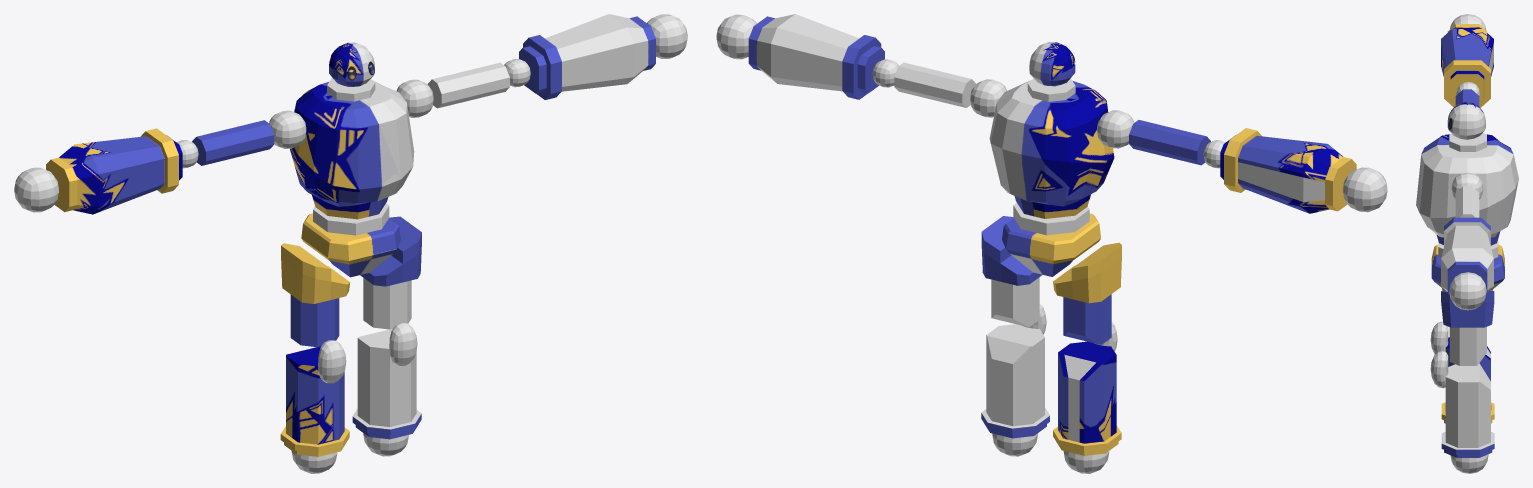
Rendered from Mecha Texturizado.fbx.
The picture shows the model from 3 angles, left to right: view 1: azimuth 30°, elevation 25°; view 2: azimuth 150°, elevation 25°; view 3: azimuth 270°, elevation 25°; orthographic projection. The views are drawn at different scales.
Visible parts, largest first — view 1: Peito, Antebraço Esquerdo, Antebraço Direito, Canela Esquerda, Canela Direita, Quadril, hipebone Direito, Braço Esquerdo, Braço Direito, Coxa Direita, Hipbone Esquerdo, Coxa Esquerda (+11 smaller); view 2: Peito, Antebraço Esquerdo, Antebraço Direito, Canela Esquerda, Canela Direita, Quadril, hipebone Direito, Braço Esquerdo, Braço Direito, Hipbone Esquerdo, Coxa Direita, Coxa Esquerda (+9 smaller); view 3: Peito, Canela Esquerda, Antebraço Direito, Antebraço Esquerdo, Coxa Esquerda, Hipbone Esquerdo, Cabeça, Mão Esquerda, Braço Esquerdo, Quadril, Joelho Esquerdo, Pescoço (+8 smaller).
Part boxes in pixels (x1,y1,x2,y2): Peito: (290, 80, 414, 219); Antebraço Esquerdo: (519, 14, 655, 99); Antebraço Direito: (46, 128, 182, 214); Canela Esquerda: (352, 329, 421, 439); Canela Direita: (280, 346, 349, 456); Quadril: (301, 213, 400, 277); hipebone Direito: (281, 243, 350, 303); Braço Esquerdo: (427, 62, 509, 108); Braço Direito: (192, 120, 274, 165); Coxa Direita: (290, 294, 339, 347); Hipbone Esquerdo: (360, 216, 421, 286); Coxa Esquerda: (363, 278, 411, 329); Peito: (989, 80, 1114, 218); Antebraço Esquerdo: (748, 14, 884, 99); Antebraço Direito: (1220, 128, 1356, 213); Canela Esquerda: (981, 324, 1049, 438); Canela Direita: (1053, 341, 1121, 455); Quadril: (1002, 213, 1100, 276); hipebone Direito: (1053, 242, 1121, 303); Braço Esquerdo: (894, 62, 975, 107); Braço Direito: (1129, 120, 1210, 165); Hipbone Esquerdo: (981, 216, 1042, 285); Coxa Direita: (1063, 294, 1111, 344); Coxa Esquerda: (991, 277, 1039, 327); Peito: (1416, 134, 1518, 245); Canela Esquerda: (1441, 363, 1494, 457); Antebraço Direito: (1441, 24, 1493, 107); Antebraço Esquerdo: (1441, 217, 1493, 295); Coxa Esquerda: (1449, 327, 1486, 365); Hipbone Esquerdo: (1441, 291, 1494, 327); Cabeça: (1447, 102, 1485, 139); Mão Esquerda: (1449, 272, 1486, 310); Braço Esquerdo: (1455, 186, 1479, 217); Quadril: (1431, 244, 1504, 290); Joelho Esquerdo: (1430, 350, 1448, 388); Pescoço: (1449, 133, 1486, 151).
Bounding box in the file's own units: 465 × 280 × 73.85.
Materials: 15 (12 with a texture image).
